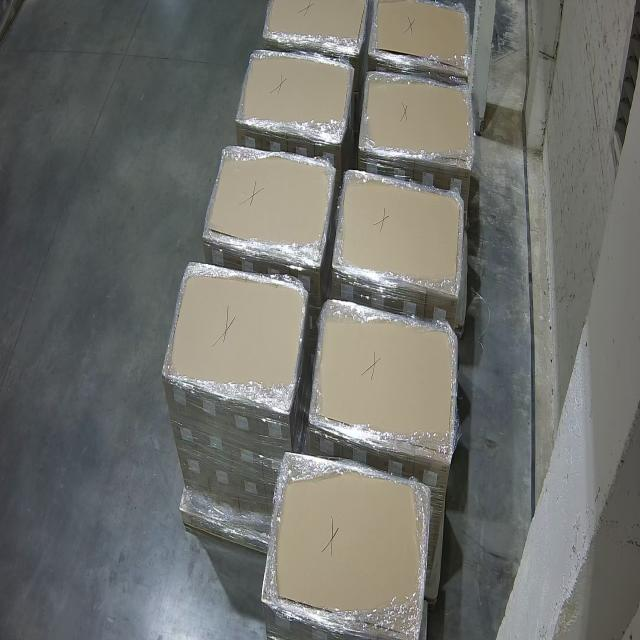pallet: (264, 452, 432, 640), (312, 295, 460, 460), (162, 263, 308, 414), (335, 168, 464, 297), (202, 144, 336, 262), (234, 45, 357, 143), (362, 72, 472, 167), (368, 0, 470, 77), (262, 0, 364, 51)
